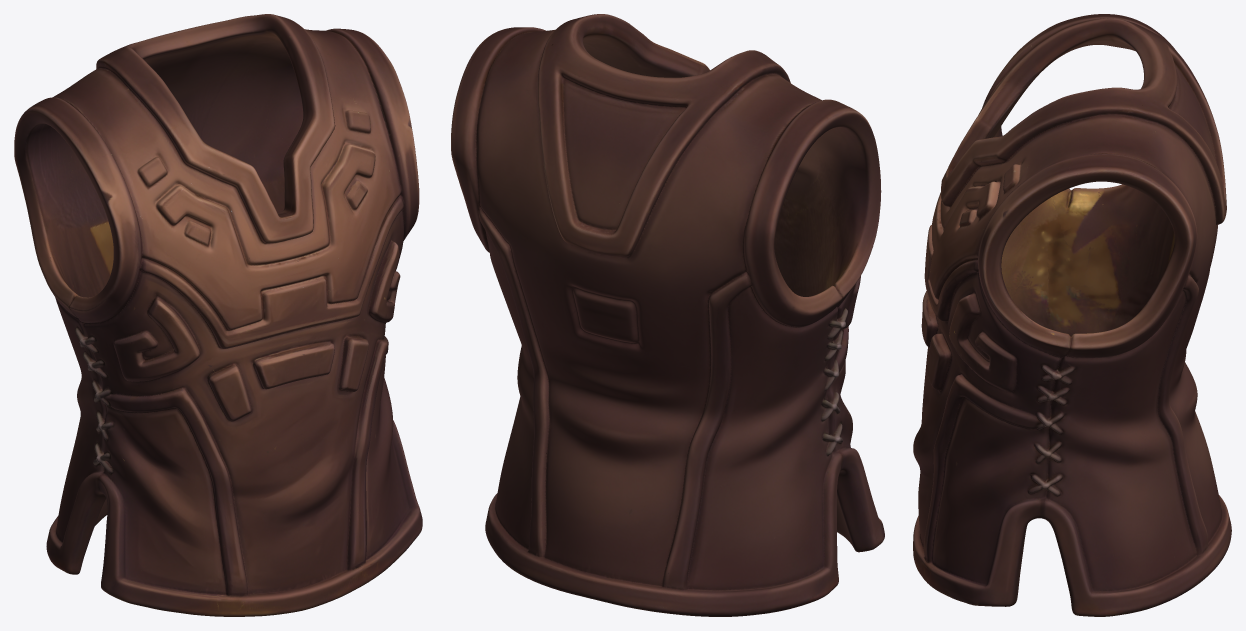
Rendered from leather_vest.glb.
3 renders of one model, left to right at view 1: azimuth 30°, elevation 25°; view 2: azimuth 150°, elevation 25°; view 3: azimuth 270°, elevation 25°, orthographic. The views are drawn at different scales.
Size of the model in its own units: 1.27 by 1.9 by 1.09.
1 material, 1 textured.
